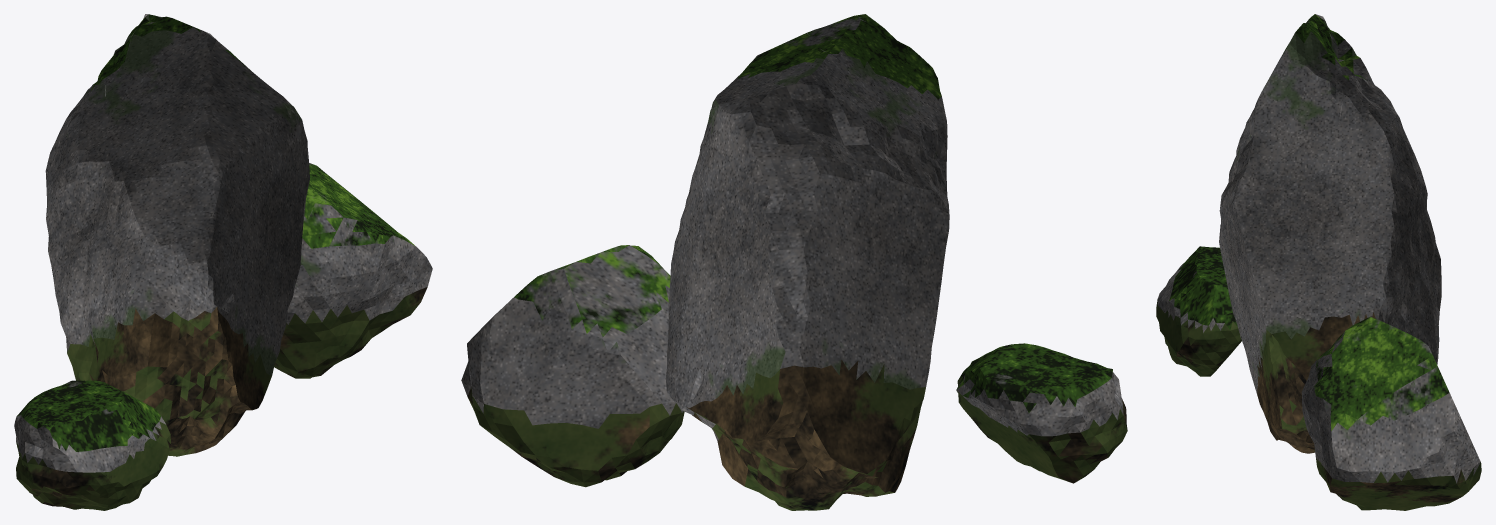
The model's file is Boulder_Granite_B.glb.
The picture shows the model from 3 angles, left to right: view 1: azimuth 30°, elevation 25°; view 2: azimuth 150°, elevation 25°; view 3: azimuth 270°, elevation 25°; orthographic projection. The views are drawn at different scales.
Visible parts, largest first — view 1: Boulder_Granite_B__Stone; view 2: Boulder_Granite_B__Stone; view 3: Boulder_Granite_B__Stone.
Boxes of the visible parts, x1,y1,x2,y2 form: Boulder_Granite_B__Stone: (14,14,432,510); Boulder_Granite_B__Stone: (461,14,1127,510); Boulder_Granite_B__Stone: (1156,14,1481,510).
Size of the model in its own units: 12.34 by 10.55 by 7.64.
1 material, 1 textured.
